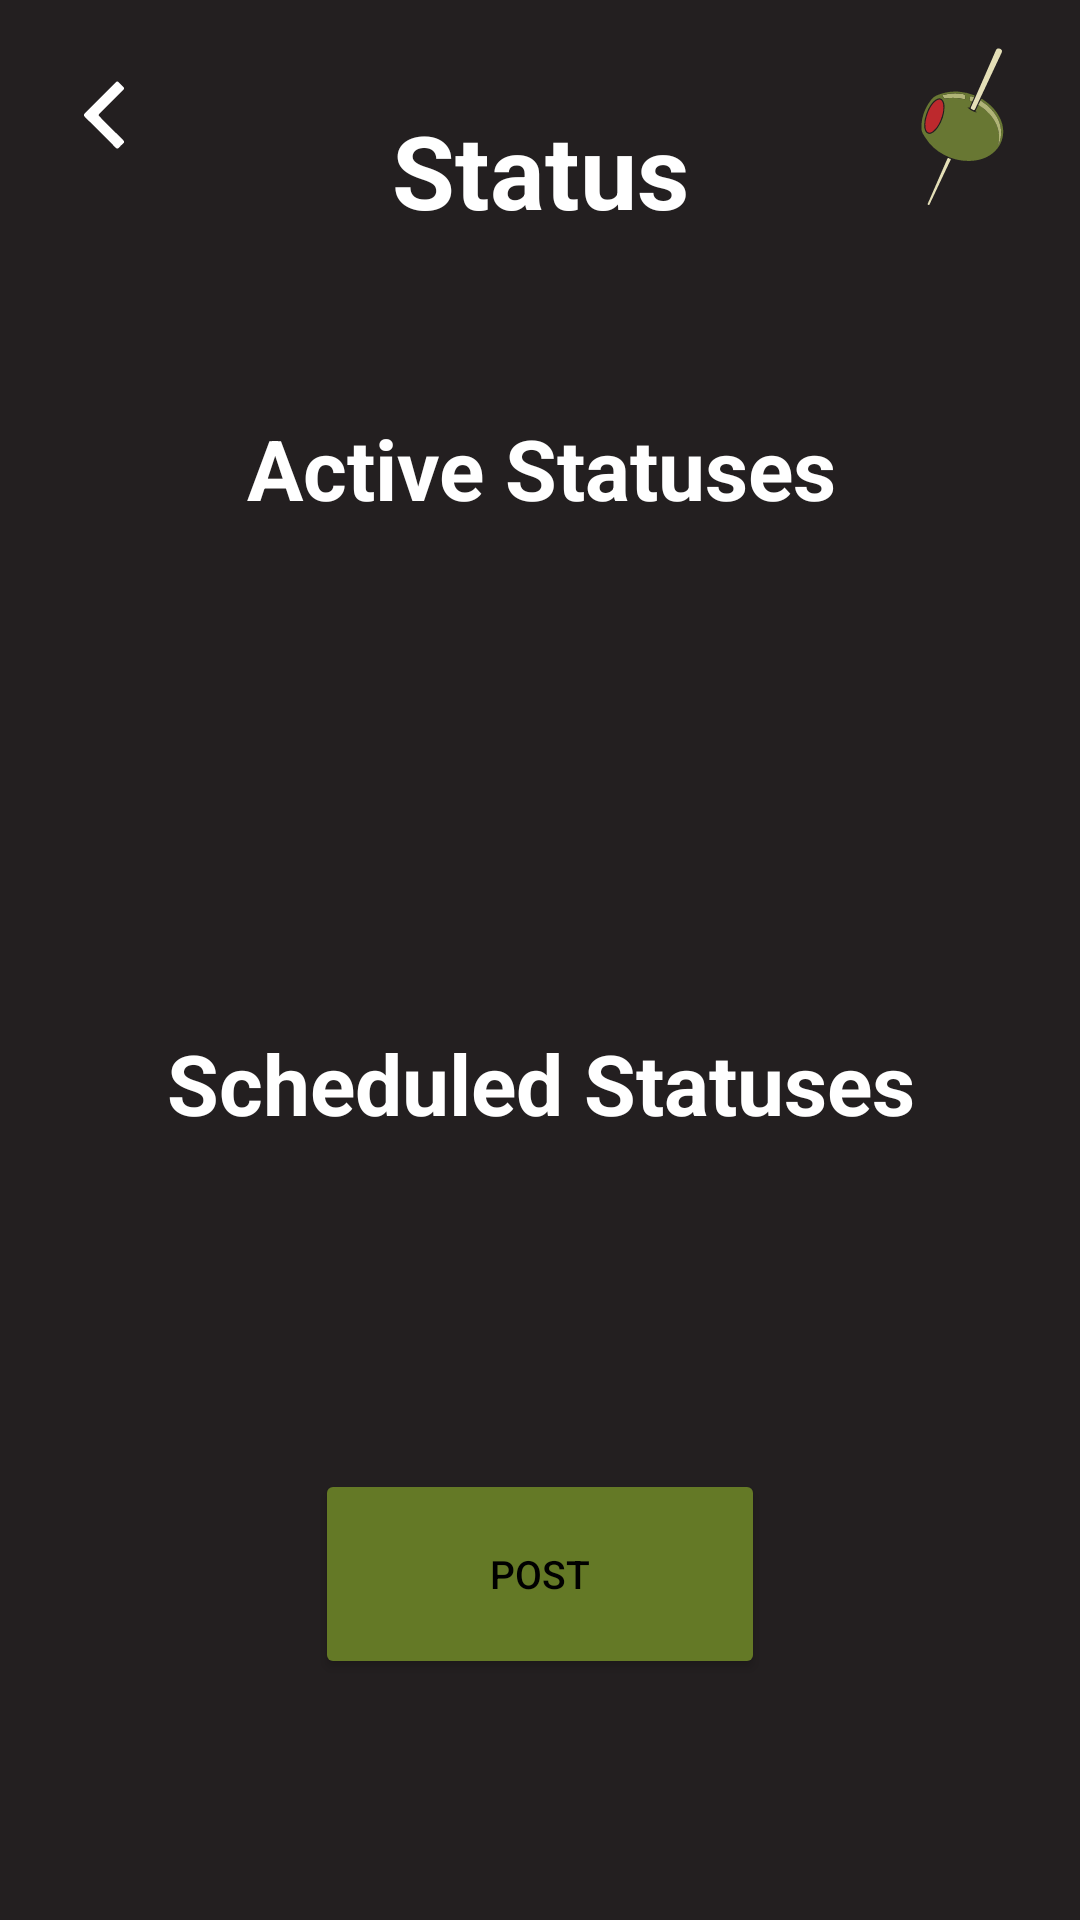

Named icons in this screenshot (1080w x 1920h) and their bounding boxes, [x1,y1,x2,y2]:
back: [84,81,124,149]
